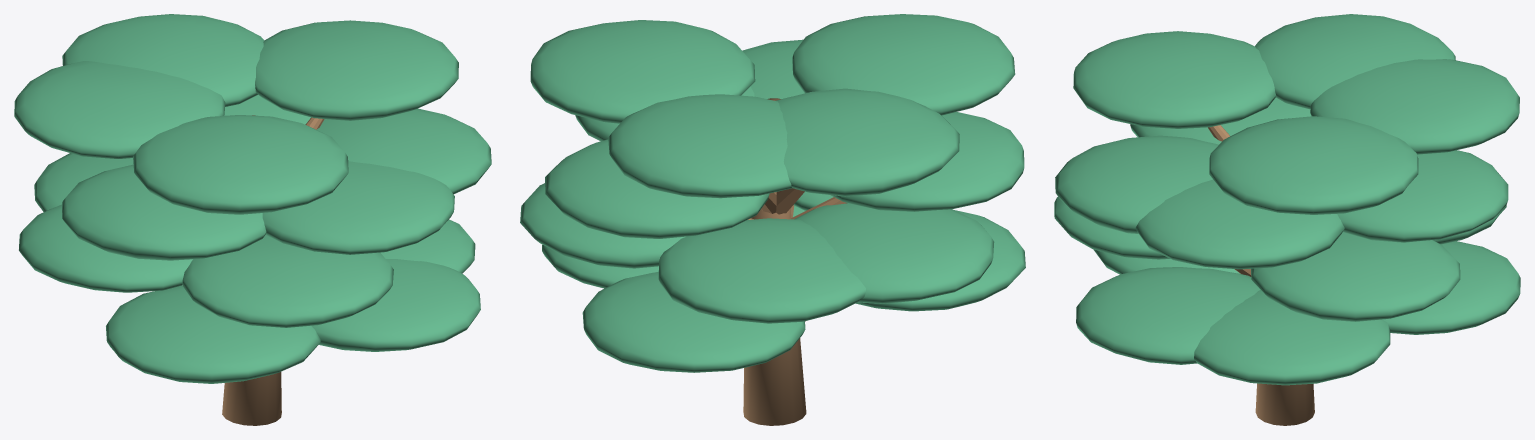
File: layered_sea_almond_tropical_island_and_palm_trees_6817.glb
3 views of the same model, side by side, from view 1: azimuth 30°, elevation 25°; view 2: azimuth 150°, elevation 25°; view 3: azimuth 270°, elevation 25° (orthographic). The views are drawn at different scales.
Visible parts, largest first — view 1: sea-almond; view 2: sea-almond; view 3: sea-almond.
Boxes of the visible parts, x1,y1,x2,y2 form: sea-almond: [14, 14, 491, 425]; sea-almond: [520, 14, 1025, 425]; sea-almond: [1054, 14, 1520, 425].
Size of the model in its own units: 6.05 by 4.56 by 5.97.
